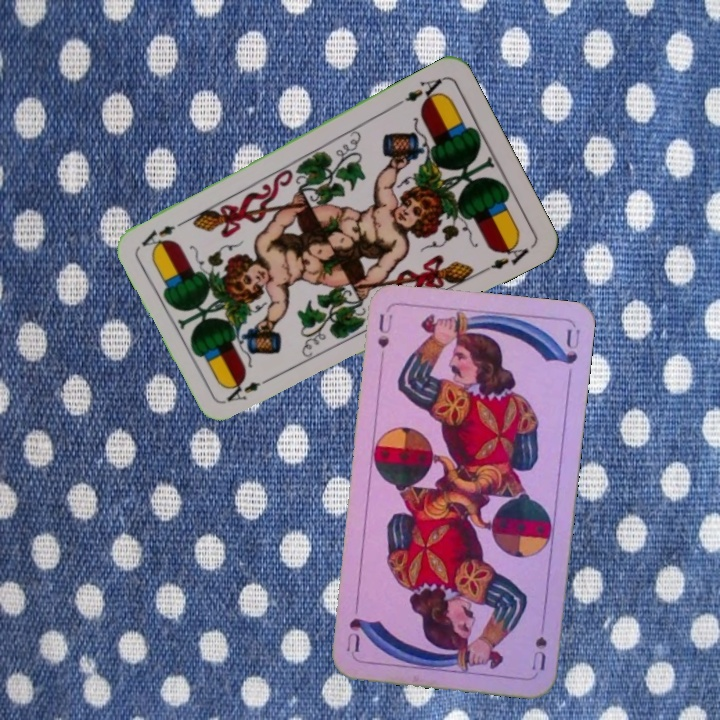EA: (401, 74, 446, 108), (222, 377, 263, 405)
SU: (373, 310, 396, 350), (527, 632, 549, 673)
